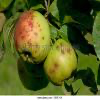Apple Scab Leaf: (58, 23, 91, 57), (47, 0, 88, 25)
